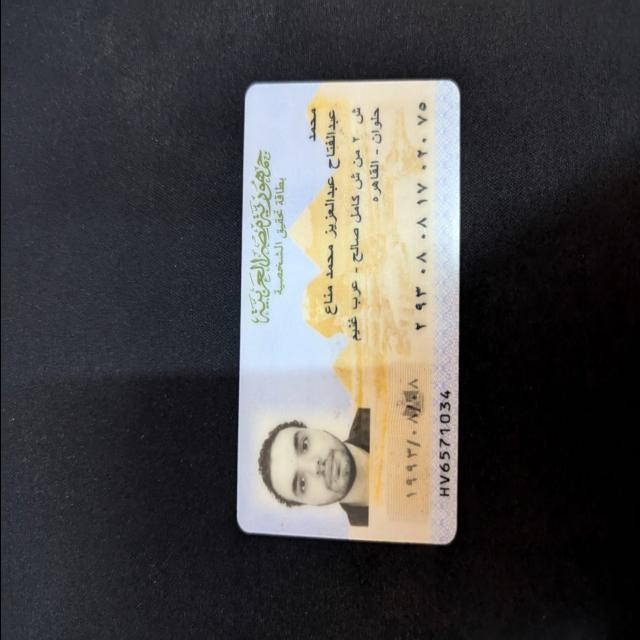id_card: (231, 70, 472, 556)
